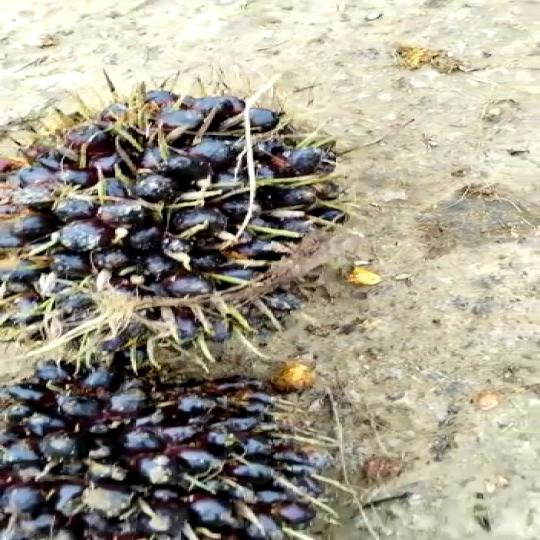mentah: (0, 70, 385, 345), (0, 347, 350, 540)
